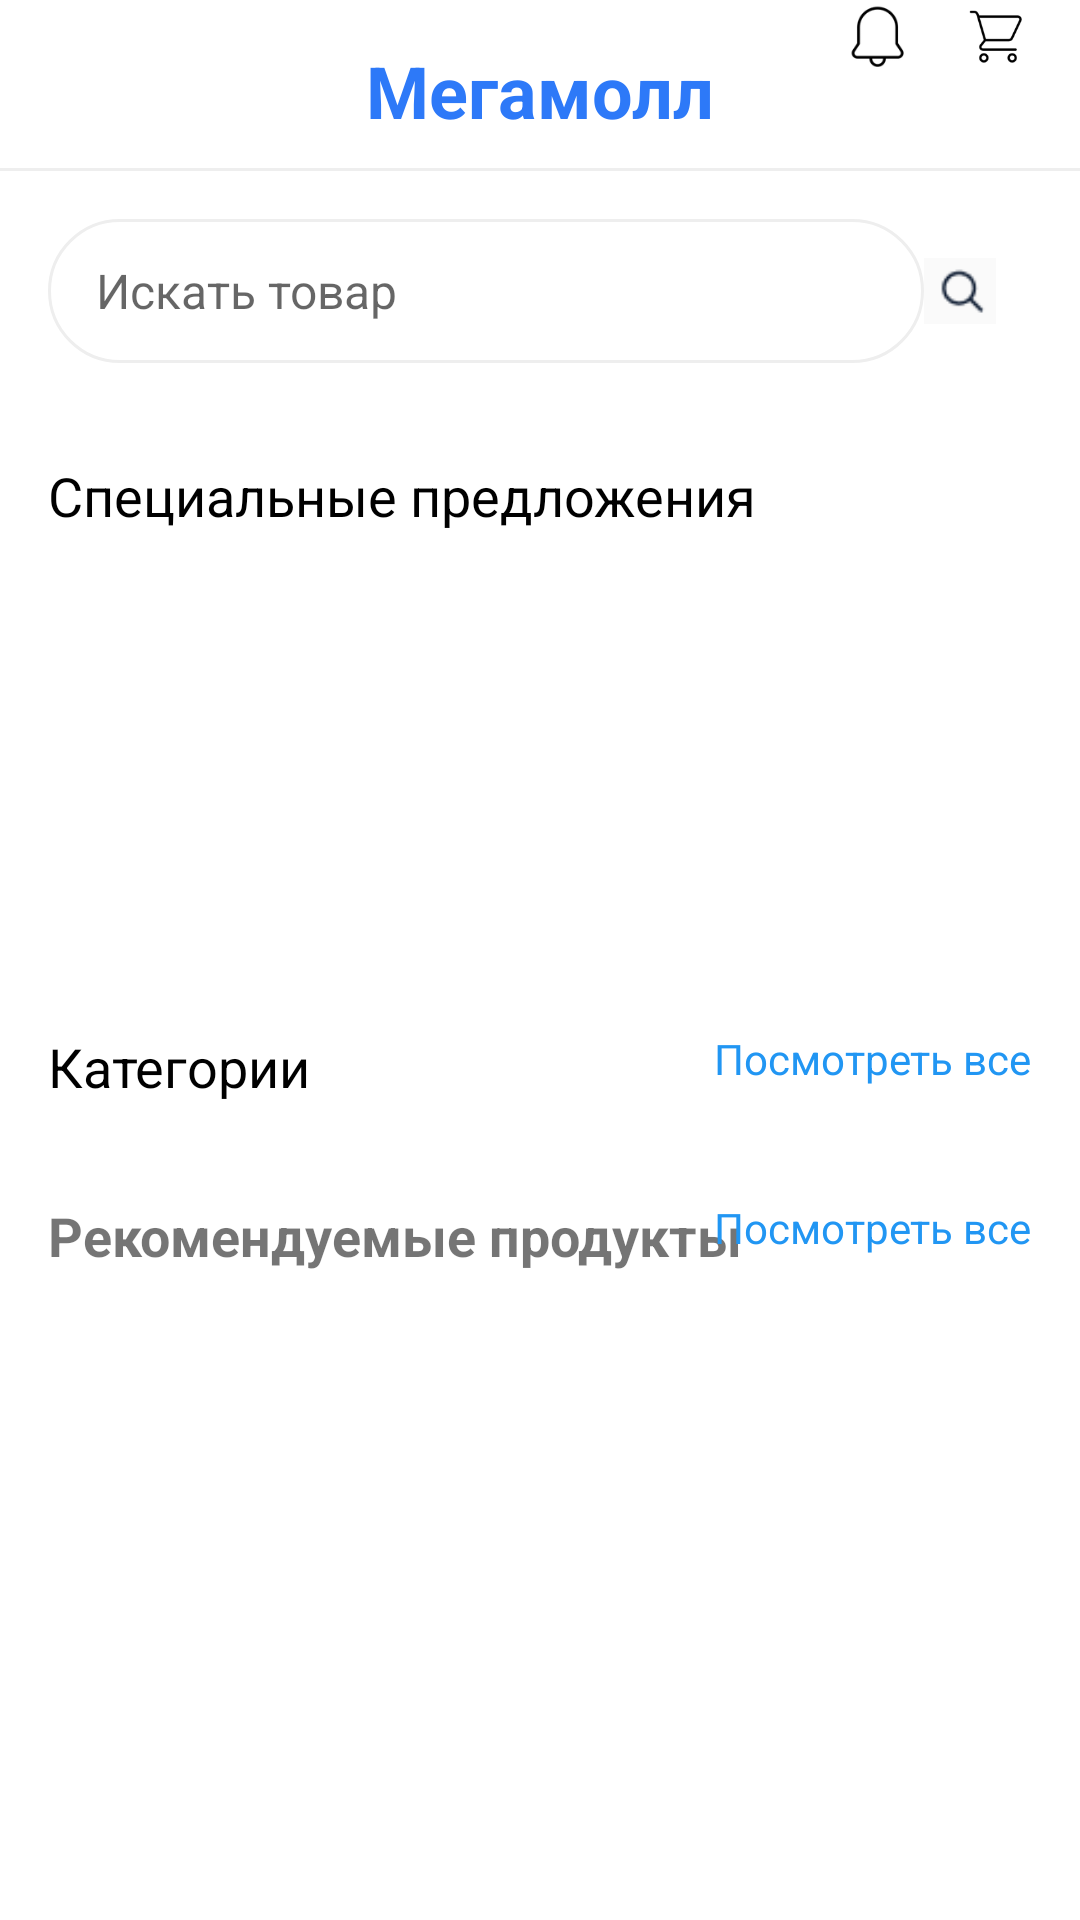

Screen size 1080 × 1920. Icon name, then its center in pixels as (x=x, y=y):
Cart: (x=995, y=36)
Notifications: (x=877, y=36)
Search: (x=962, y=291)
